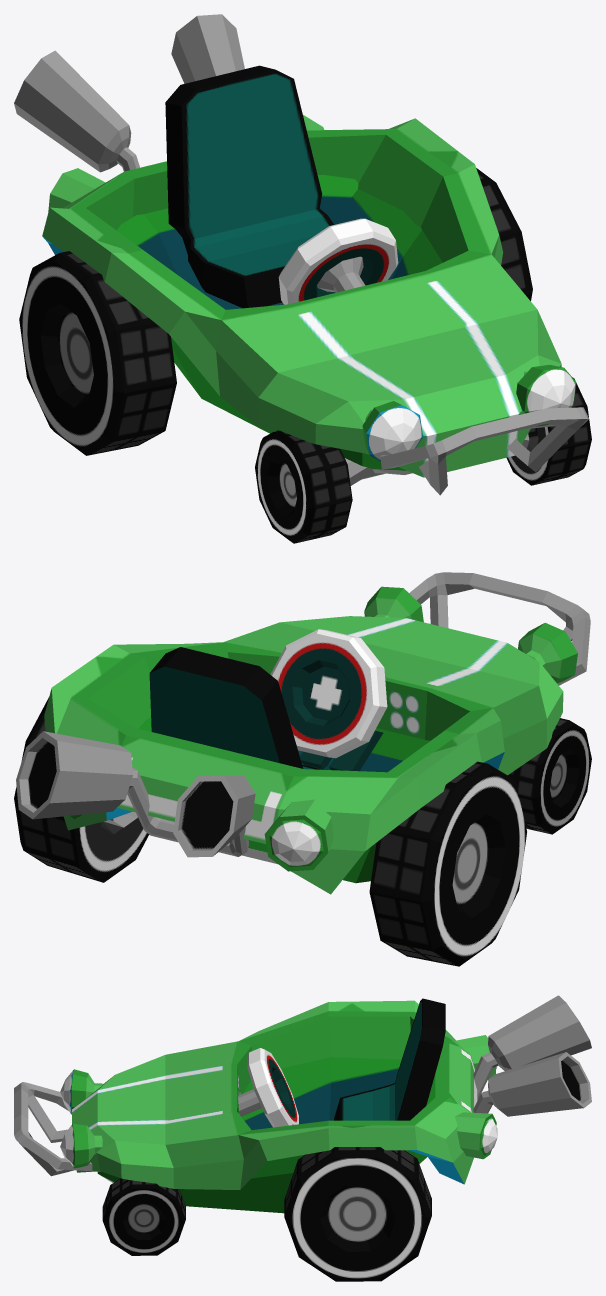
Rendered from BuggyKarts.fbx.
3 renders of one model, top to bottom at view 1: azimuth 30°, elevation 25°; view 2: azimuth 150°, elevation 25°; view 3: azimuth 270°, elevation 25°, orthographic. The views are drawn at different scales.
Visible parts, largest first — view 1: Body, RR_Wheel, FR_Wheel, Steering, FL_Wheel, RL_Wheel; view 2: Body, RR_Wheel, Steering, RL_Wheel, FR_Wheel; view 3: Body, RL_Wheel, FL_Wheel, Steering.
Part boxes in pixels (x1,y1,x2,y2): Body: (14,14,588,495); RR_Wheel: (19,251,176,455); FR_Wheel: (255,430,352,543); Steering: (278,218,398,304); FL_Wheel: (506,377,591,485); RL_Wheel: (476,168,532,300); Body: (16,572,590,894); RR_Wheel: (369,761,526,966); Steering: (270,629,387,758); RL_Wheel: (14,697,148,882); FR_Wheel: (508,718,591,834); Body: (14,995,591,1213); RL_Wheel: (284,1147,431,1281); FL_Wheel: (102,1178,185,1255); Steering: (238,1048,298,1127).
Bounding box in the file's own units: 19.31 × 12.36 × 32.07.
1 material, 1 textured.
